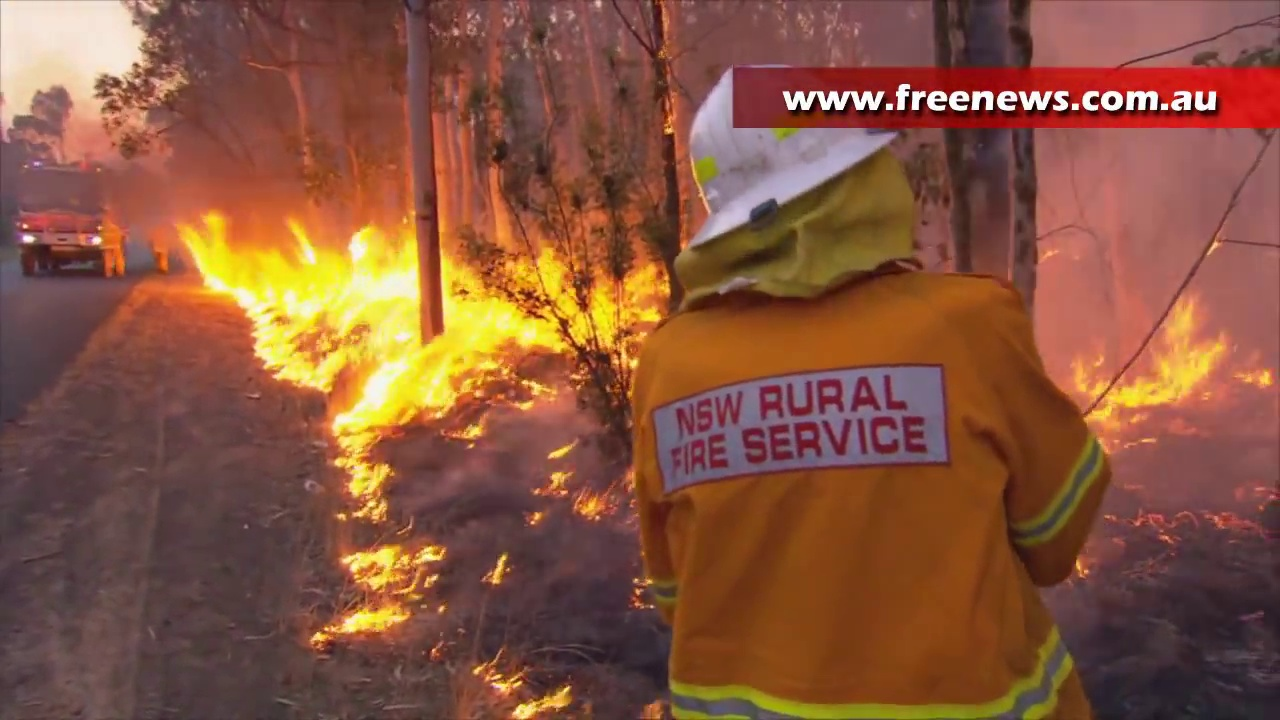fire: (189, 204, 646, 338), (254, 340, 545, 443), (1076, 291, 1233, 415), (346, 541, 443, 632), (487, 671, 572, 717), (349, 459, 391, 526)
